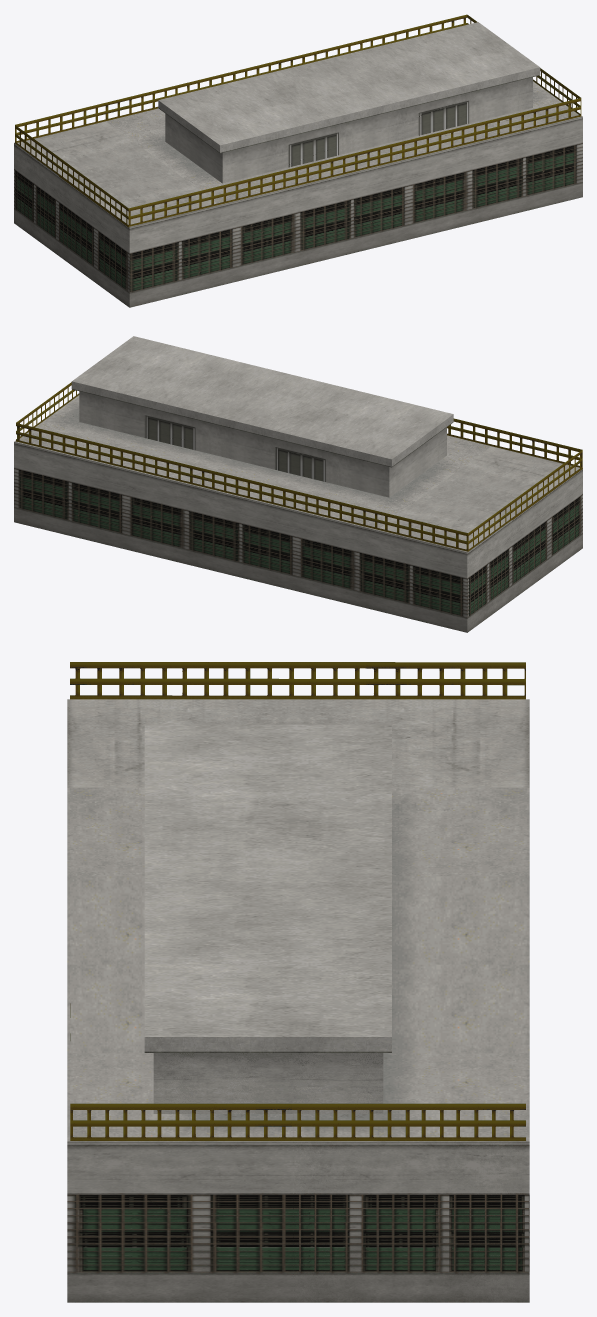
The model's file is workshop_02.obj.
The picture shows the model from 3 angles, top to bottom: view 1: azimuth 30°, elevation 25°; view 2: azimuth 150°, elevation 25°; view 3: azimuth 270°, elevation 25°; orthographic projection. The views are drawn at different scales.
Visible parts, largest first — view 1: Box083; view 2: Box083; view 3: Box083.
Boxes of the visible parts, <box> form: Box083: <box>14,14,582,307</box>; Box083: <box>14,336,582,632</box>; Box083: <box>67,662,529,1302</box>.
Size of the model in its own units: 76.95 by 19.69 by 33.96.
